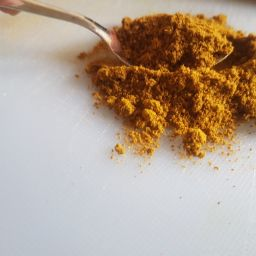Curry powder: (84, 9, 256, 183), (76, 38, 256, 173), (114, 10, 238, 74)
